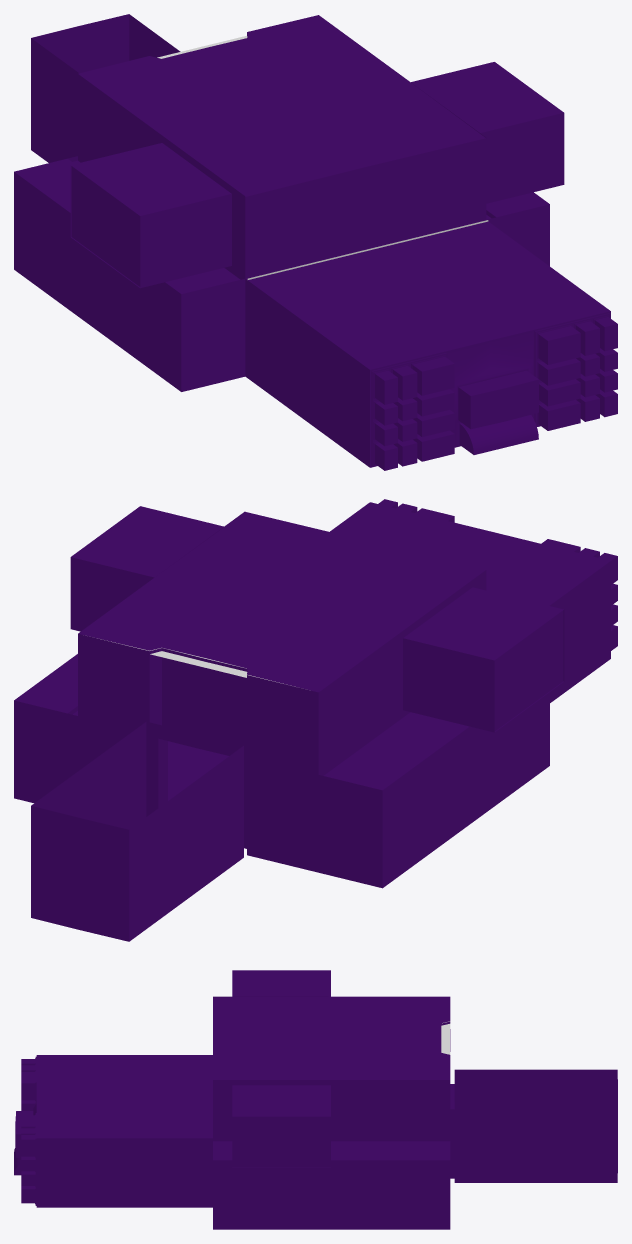
Rendered from gameRoom.glb.
The picture shows the model from 3 angles, top to bottom: view 1: azimuth 30°, elevation 25°; view 2: azimuth 150°, elevation 25°; view 3: azimuth 270°, elevation 25°; orthographic projection. The views are drawn at different scales.
Parts seen in each view (by area): view 1: body; view 2: body; view 3: body.
Boxes of the visible parts, bbox=[...] form: body: bbox=[14, 14, 617, 470]; body: bbox=[14, 499, 617, 941]; body: bbox=[14, 970, 617, 1229].
Bounding box in the file's own units: 13.71 × 5.59 × 23.89.
Materials: 2 (1 with a texture image).
